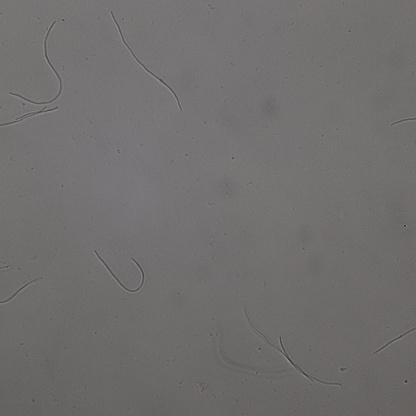Sensitive: (244, 307, 343, 387), (112, 12, 181, 110), (10, 20, 63, 105), (95, 250, 145, 292), (1, 106, 59, 128), (375, 326, 416, 354), (1, 277, 41, 305), (391, 116, 416, 124)
